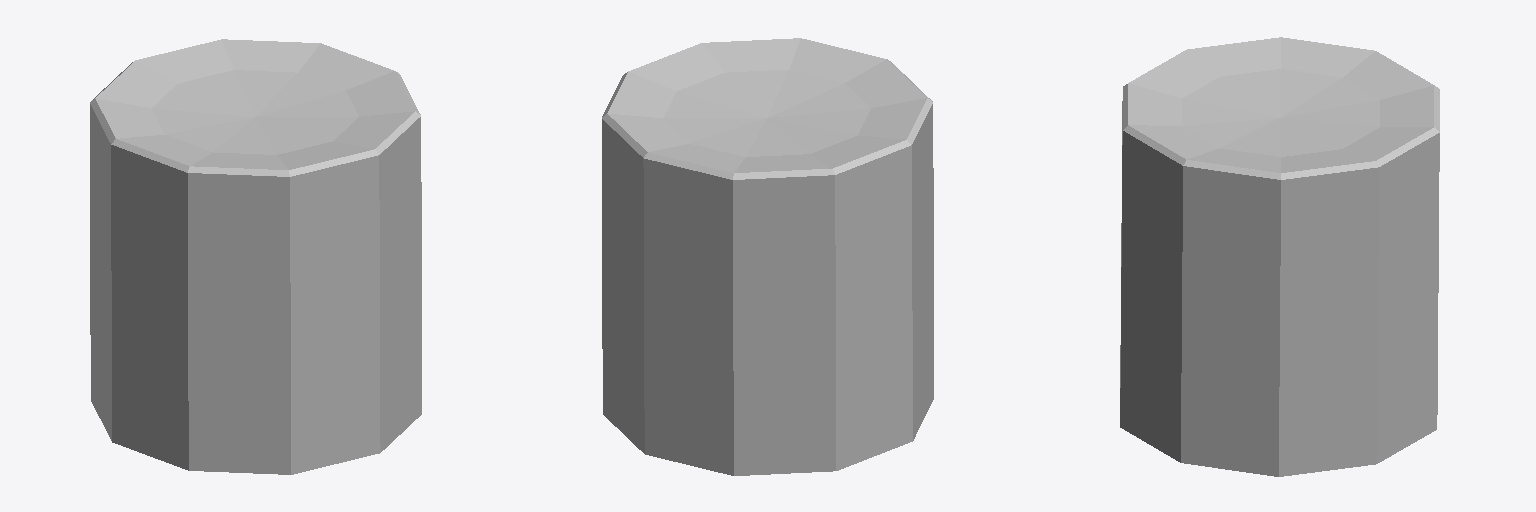
Rendered from crystal_controller_left_button1.obj.
The picture shows the model from 3 angles: view 1: azimuth 30°, elevation 25°; view 2: azimuth 150°, elevation 25°; view 3: azimuth 270°, elevation 25°; orthographic projection.
Visible parts, largest first — view 1: crystal_controller_left_button1; view 2: crystal_controller_left_button1; view 3: crystal_controller_left_button1.
Part boxes in pixels (left/top/right/bottom): crystal_controller_left_button1: left=90, top=39, right=421, bottom=474; crystal_controller_left_button1: left=602, top=38, right=933, bottom=475; crystal_controller_left_button1: left=1120, top=37, right=1439, bottom=476.
Size of the model in its own units: 0.0098 by 0.0099 by 0.0094.